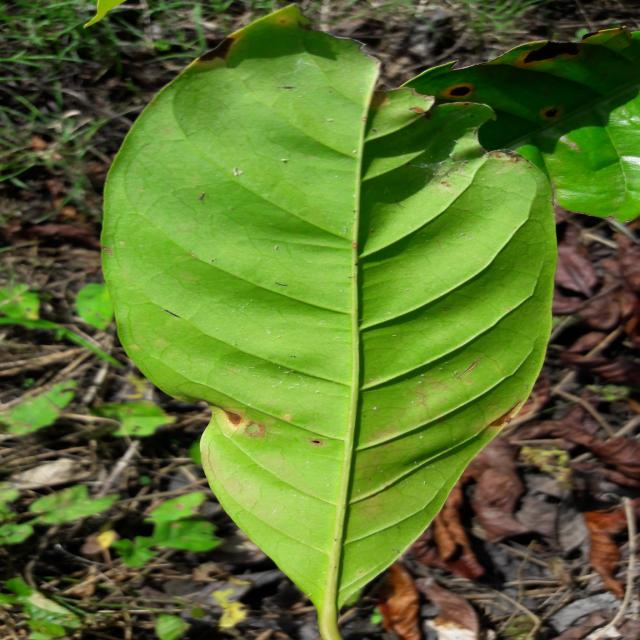Enfermedad-Roya: (87, 6, 554, 640)
